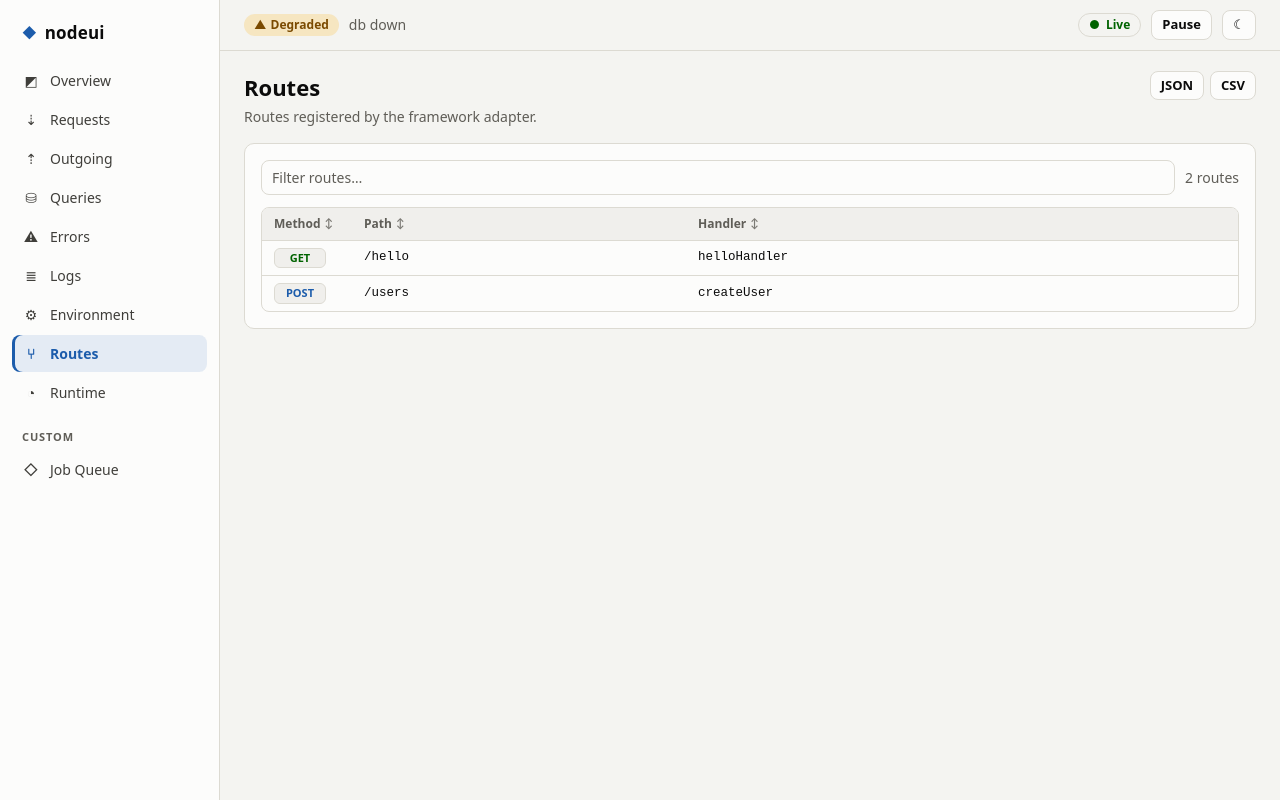
Scenario: Routes view › lists routes and filters
Check: the text "/hello" is shown, box [352, 240, 686, 276]
Check: the text "POST" is shown, box [274, 283, 326, 304]
Step 1. Type "users" into the search field labelled "Filter routes" → (718, 177), box [261, 160, 1175, 194]
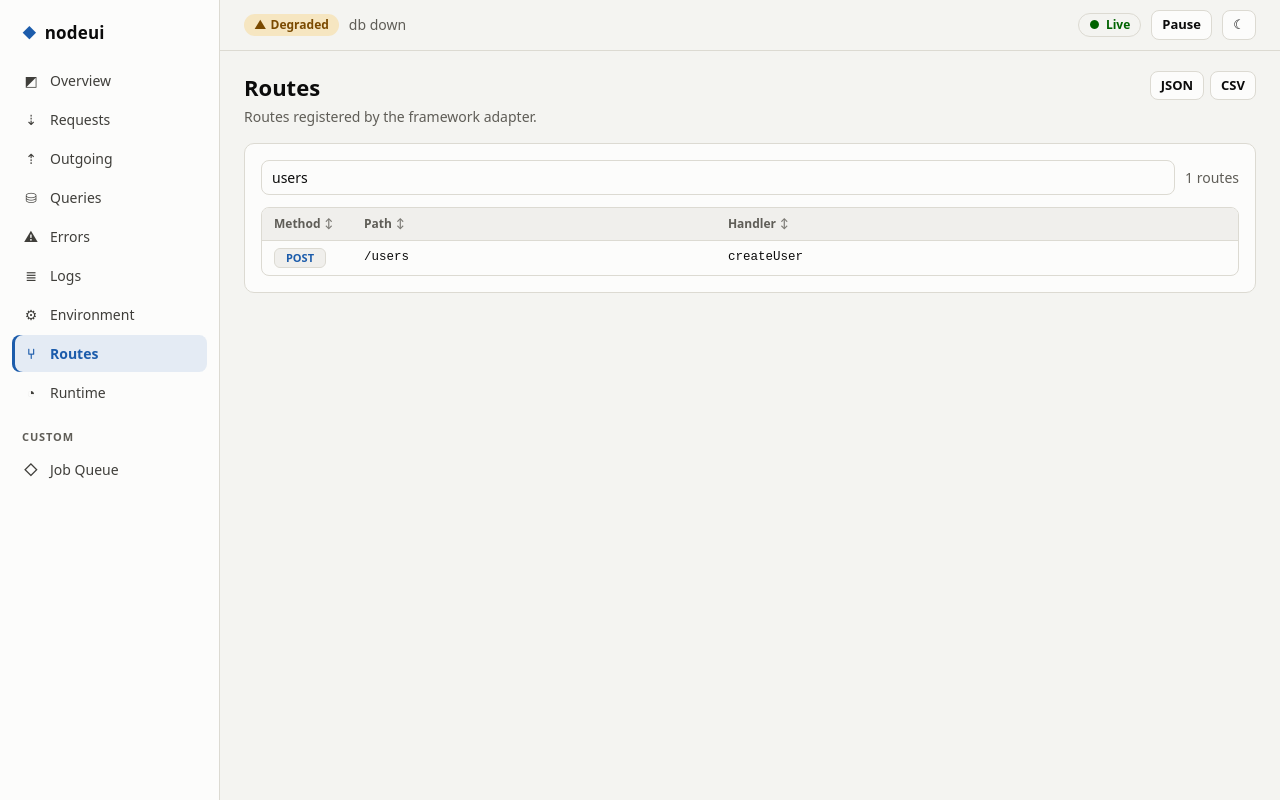
Check: the text "createUser" is shown, box [716, 240, 1238, 275]
Check: the text "/hello" is gone
